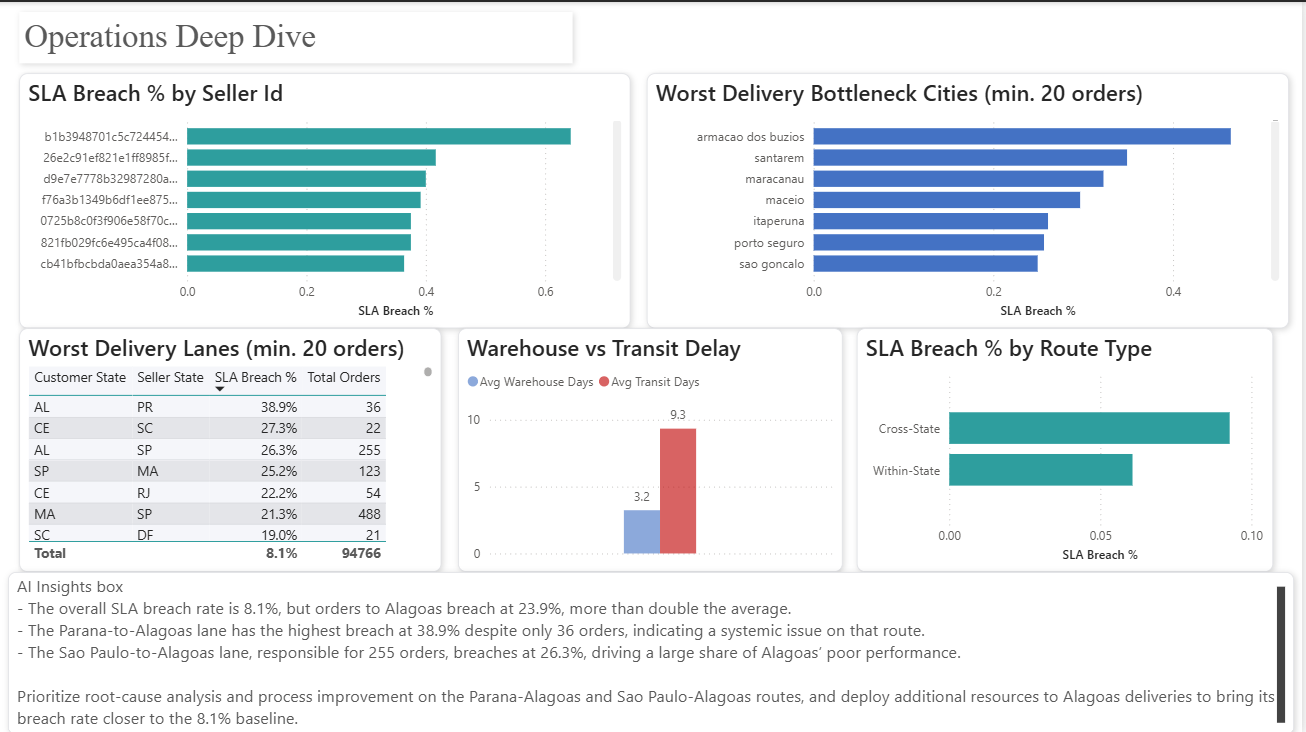

The page's visual inventory and layout, read from the dashboard file:
{"tool":"powerbi","page":{"name":"Operations Deep Dive","canvas":[1280,720],"ordinal":1},"visuals":[{"type":"clusteredBarChart","fields":{"Category":["deliveries.seller_id"],"Y":["deliveries.SLA Breach %"]},"box":[20.6,70,600,250],"z":0},{"type":"tableEx","title":"Worst Origin → Destination Lanes (min. 20 orders)","fields":{"Values":["deliveries.customer_state","deliveries.seller_state","deliveries.SLA Breach %","deliveries.Total Orders"]},"box":[30.2,337.6,430,250],"z":1},{"type":"clusteredBarChart","title":"Worst Delivery Bottleneck Cities (min. 20 orders)","fields":{"Category":["deliveries.customer_city"],"Y":["deliveries.SLA Breach %"]},"box":[630,60,630,250],"z":2},{"type":"clusteredColumnChart","title":"Where Does the Delay Happen: Warehouse vs Transit","fields":{"Y":["deliveries.Avg Warehouse Days","deliveries.Avg Transit Days"]},"box":[439.1,337.6,380,250],"z":3},{"type":"clusteredBarChart","fields":{"Category":["deliveries.route_type"],"Y":["deliveries.SLA Breach %"]},"box":[850,320,410,250],"z":4},{"type":"textbox","box":[20.6,9.6,543.4,39.8],"z":5},{"type":"textbox","box":[20,580,1240,120],"z":6}]}

Visuals, with their boxes in screenshot pixels (x1, y1, x2, y2), scaled from the page's 1280x720 canvas onto the 1306x732 screenshot:
clusteredBarChart - deliveries.seller_id x deliveries.SLA Breach %: (left=21, top=71, right=633, bottom=325)
"Worst Origin → Destination Lanes (min. 20 orders)" tableEx: (left=31, top=343, right=470, bottom=597)
"Worst Delivery Bottleneck Cities (min. 20 orders)" clusteredBarChart: (left=643, top=61, right=1286, bottom=315)
"Where Does the Delay Happen: Warehouse vs Transit" clusteredColumnChart: (left=448, top=343, right=836, bottom=597)
clusteredBarChart - deliveries.route_type x deliveries.SLA Breach %: (left=867, top=325, right=1286, bottom=580)
textbox: (left=21, top=10, right=575, bottom=50)
textbox: (left=20, top=590, right=1286, bottom=712)
